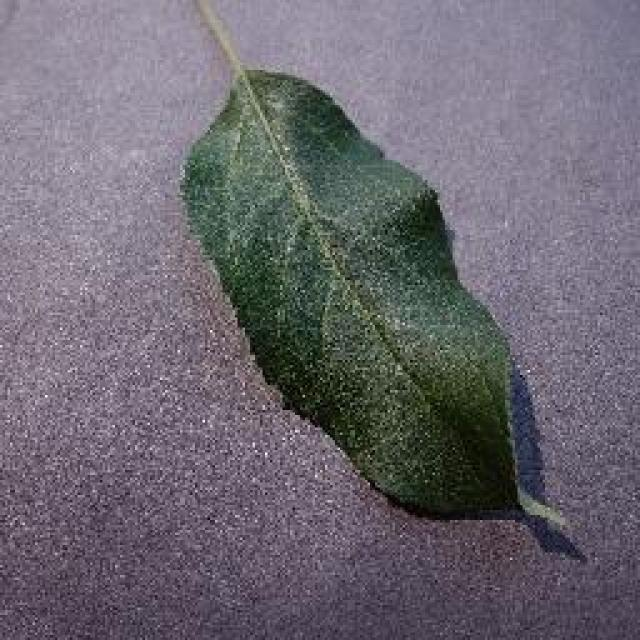apple healthy: (175, 63, 553, 525)
